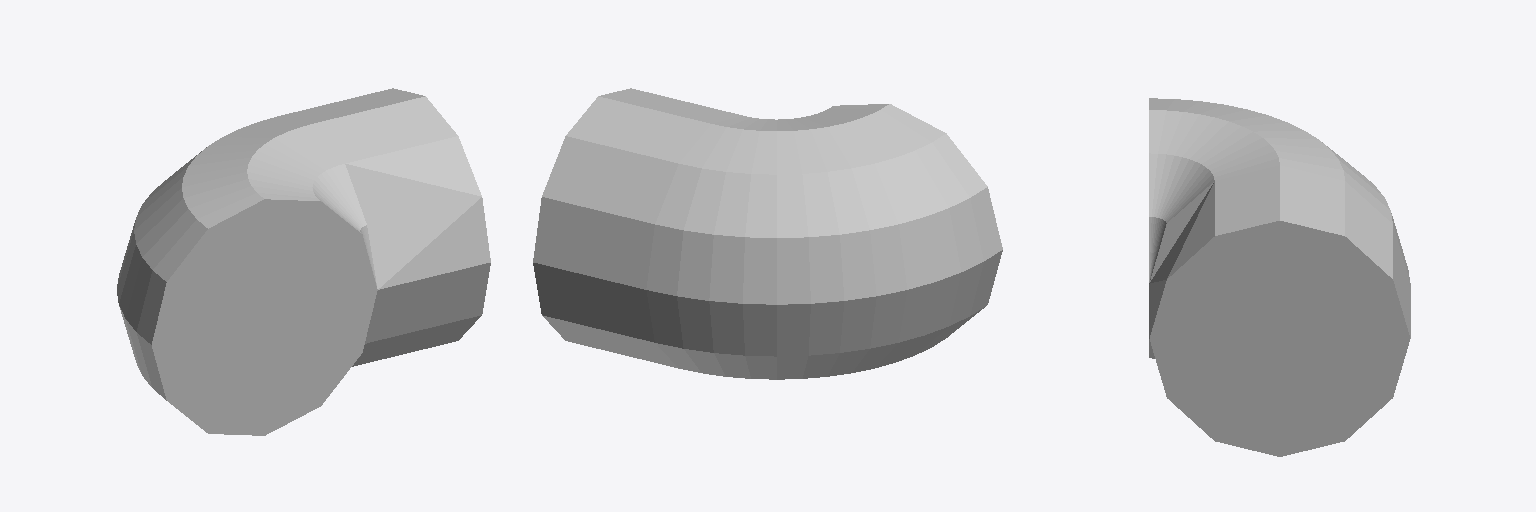
The model's file is arm_link4.obj.
The picture shows the model from 3 angles: view 1: azimuth 30°, elevation 25°; view 2: azimuth 150°, elevation 25°; view 3: azimuth 270°, elevation 25°; orthographic projection.
Parts seen in each view (by area): view 1: arm_link4_Cylinder.076; view 2: arm_link4_Cylinder.076; view 3: arm_link4_Cylinder.076.
Boxes of the visible parts, x1=… form: arm_link4_Cylinder.076: x1=117, y1=88, x2=490, y2=435; arm_link4_Cylinder.076: x1=533, y1=88, x2=1002, y2=379; arm_link4_Cylinder.076: x1=1149, y1=98, x2=1410, y2=456.
Bounding box in the file's own units: 0.0901 × 0.06 × 0.06.